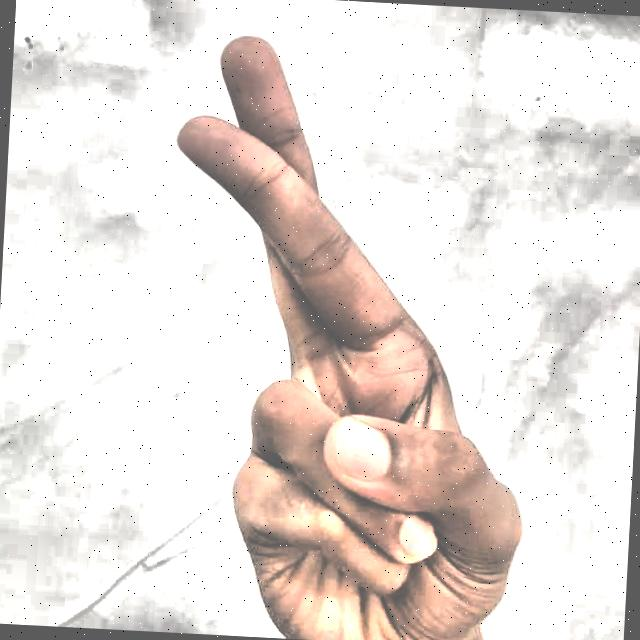Ra: (90, 6, 559, 640)
